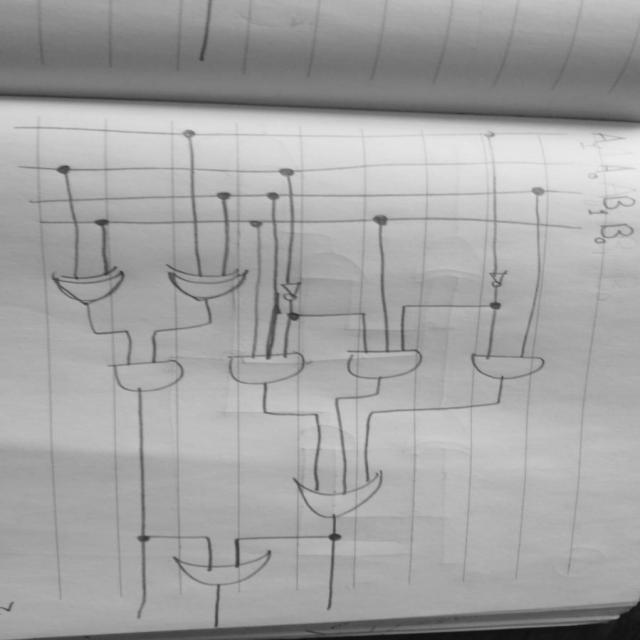AND: (96, 354, 202, 399), (218, 345, 320, 388), (460, 350, 563, 388), (341, 344, 434, 382)
NOT: (480, 265, 517, 289), (282, 281, 310, 304)
OR: (164, 548, 291, 592), (285, 472, 396, 521)
XNOR: (159, 259, 259, 305), (50, 264, 144, 311)
